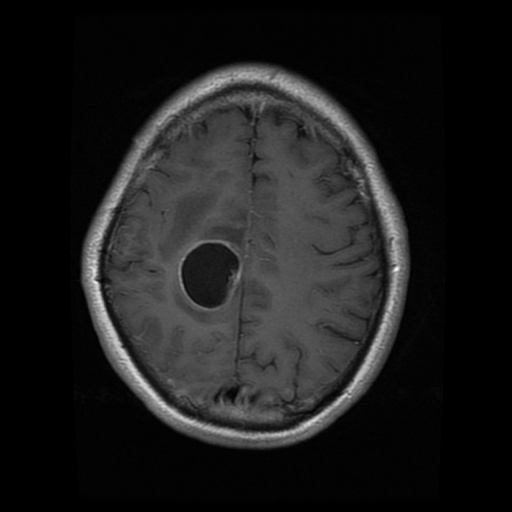glioma: (177, 237, 243, 312)
